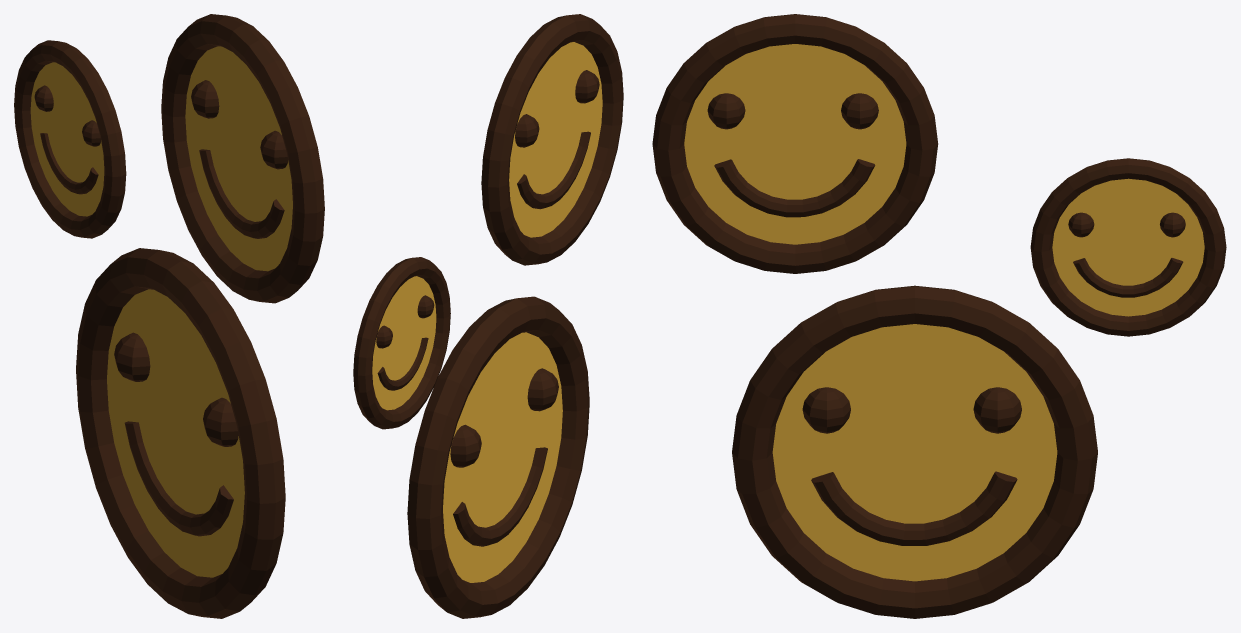
File: smiley.fbx
The picture shows the model from 3 angles, left to right: view 1: azimuth 30°, elevation 25°; view 2: azimuth 150°, elevation 25°; view 3: azimuth 270°, elevation 25°; orthographic projection. The views are drawn at different scales.
Parts seen in each view (by area): view 1: Torus, Torus.002, Torus.001; view 2: Torus, Torus.002, Torus.001; view 3: Torus, Torus.002, Torus.001.
Part boxes in pixels (x1,y1,x2,y2): Torus: (76,248,285,618); Torus.002: (161,14,324,303); Torus.001: (14,40,126,238); Torus: (407,296,589,618); Torus.002: (481,14,623,265); Torus.001: (353,257,450,429); Torus: (732,285,1097,618); Torus.002: (652,14,938,273); Torus.001: (1030,158,1226,336).
Bounding box in the file's own units: 31.1 × 426 × 367.
